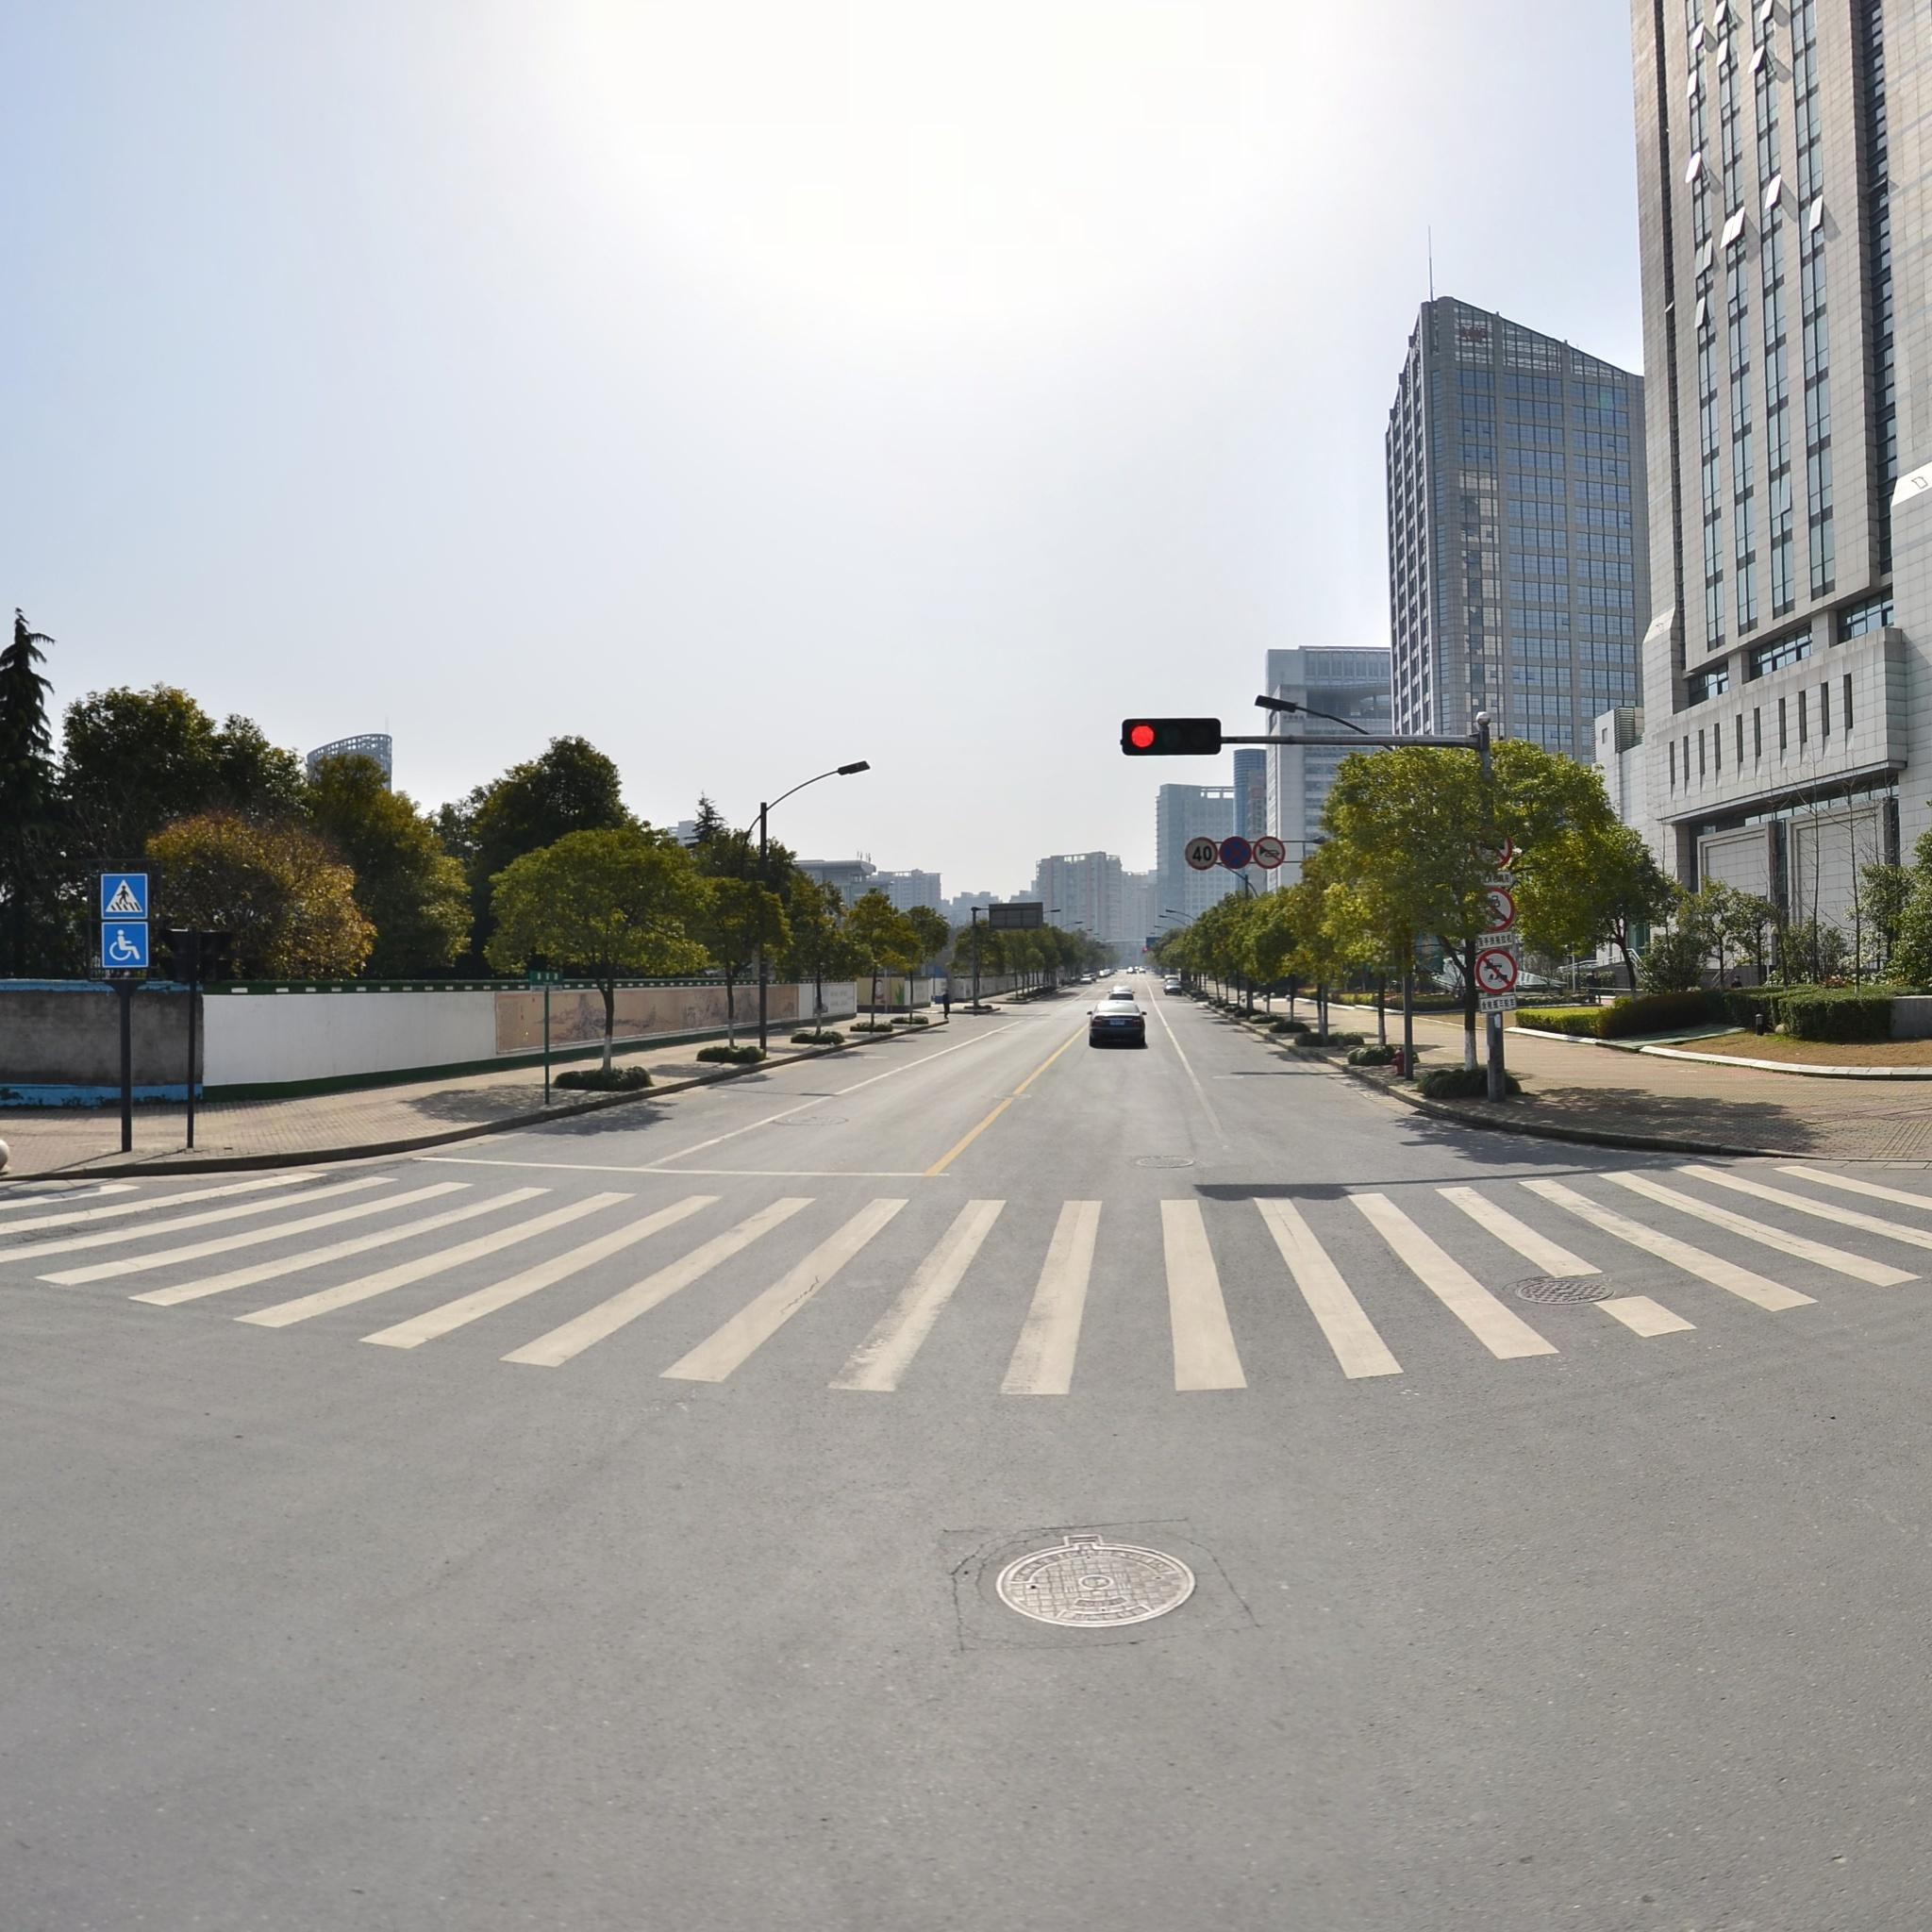p11: (1254, 837, 1286, 870)
pl40: (1185, 837, 1217, 870)
pn: (1219, 835, 1253, 870)
